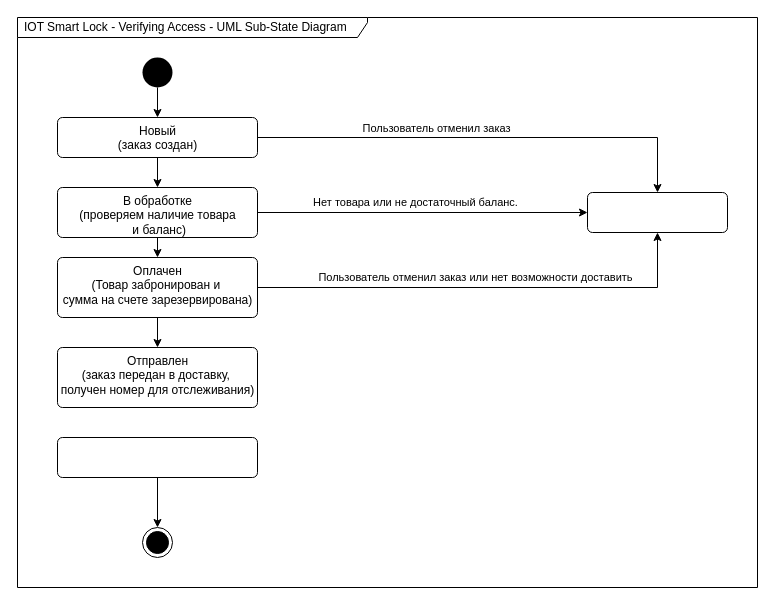
This 775x605 diagram has some shape labels left out. The shapes that lost their labels are listed below. From the top down, each one's box as (x1, y1, x2, y2) in pixels, then its label:
(586, 192, 728, 232): Отменен
(56, 436, 258, 478): Доставлен
